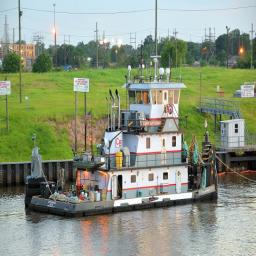tugboat: (21, 55, 221, 222)
